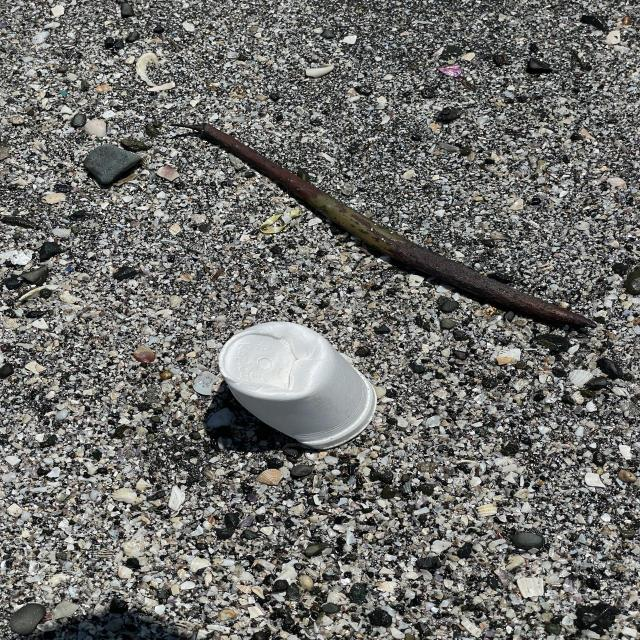styrofoam_waste: (215, 323, 376, 451)
